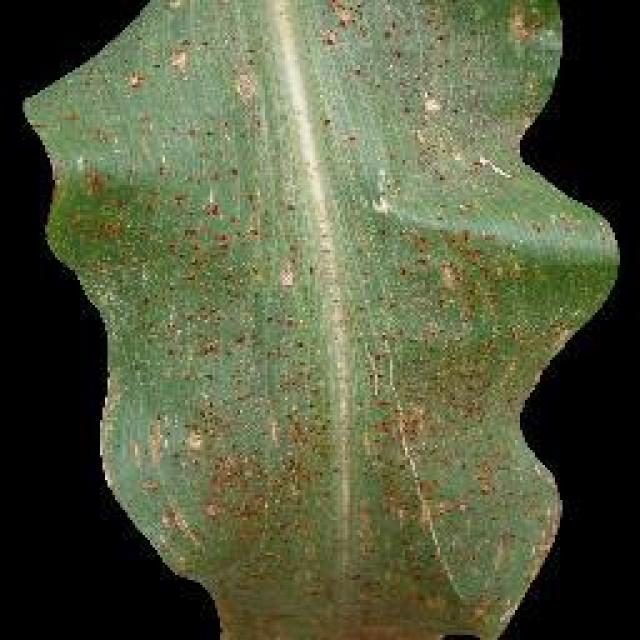Corn Common Rust: (137, 22, 535, 615)
